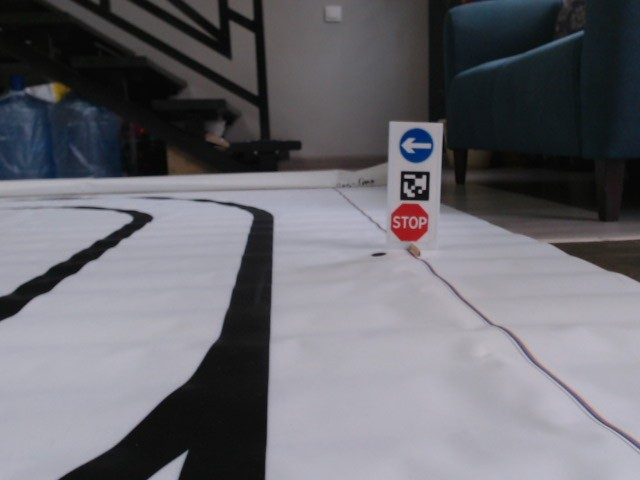Stop: (390, 202, 429, 244)
